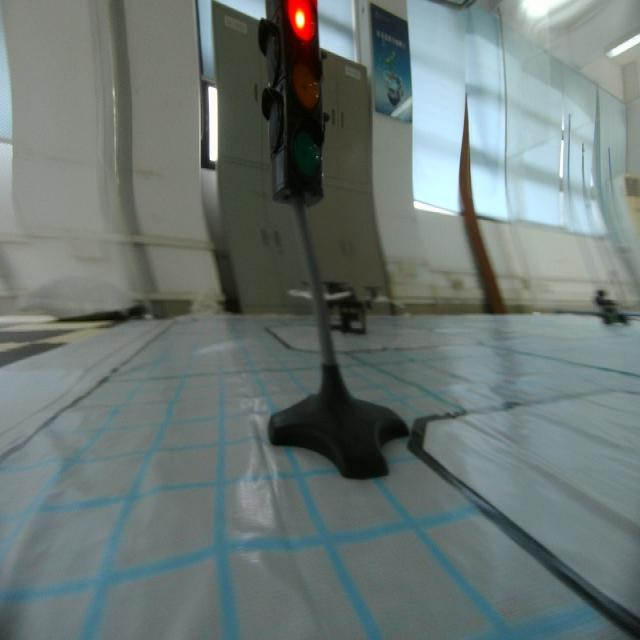red: (258, 0, 332, 214)
